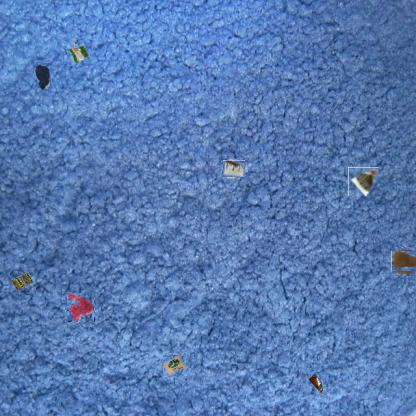dirty: (348, 167, 379, 196), (66, 39, 92, 65), (10, 270, 36, 294), (393, 249, 416, 273), (305, 372, 327, 394), (164, 354, 186, 376), (225, 159, 244, 179)
liquid: (66, 294, 95, 323), (33, 62, 51, 90)
